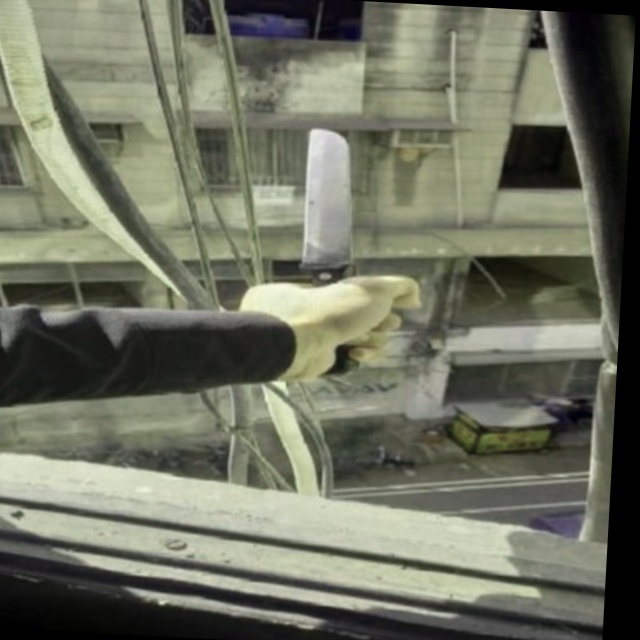Sharp-Object: (295, 126, 371, 378)
